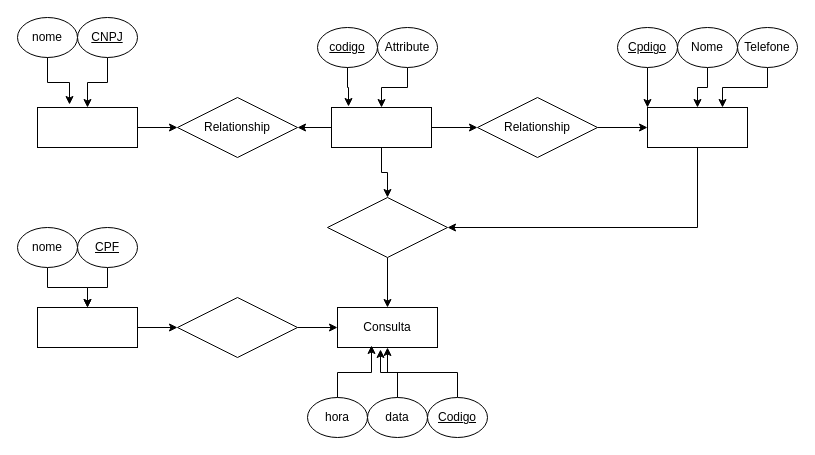
Image size: 815x455. Some labels were removed from this diagram. Each missing label, with the centre of its shape:
"agenda" goes at (x=387, y=227).
"atendimento" goes at (x=381, y=127).
"Clinica" goes at (x=87, y=127).
"Medico" goes at (x=87, y=327).
"Paciente" goes at (x=697, y=127).
"realiza" goes at (x=237, y=327).
